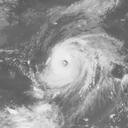cyclone: (43, 36, 98, 92)
